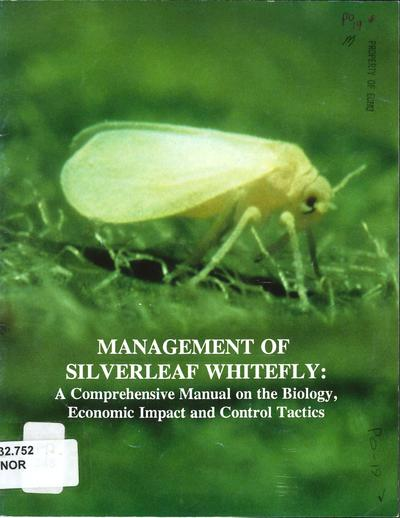Tobacco Whitefly: (84, 135, 346, 290)
